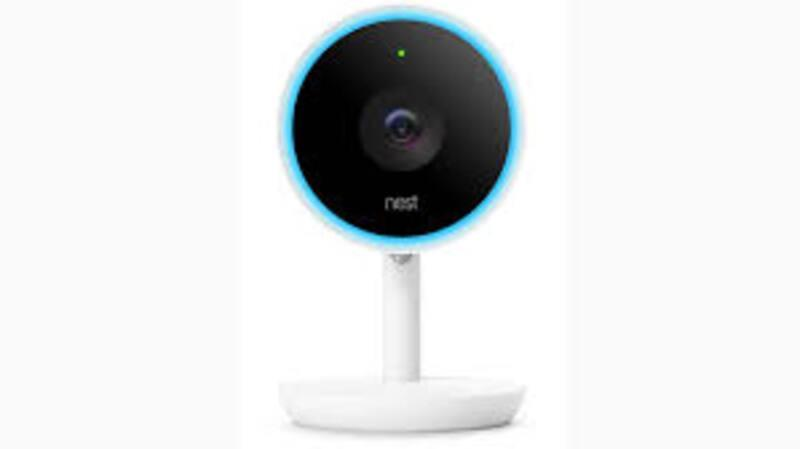nest: (277, 4, 536, 265)
